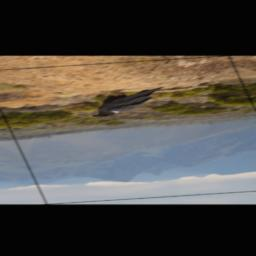Crow: (76, 85, 179, 119)
